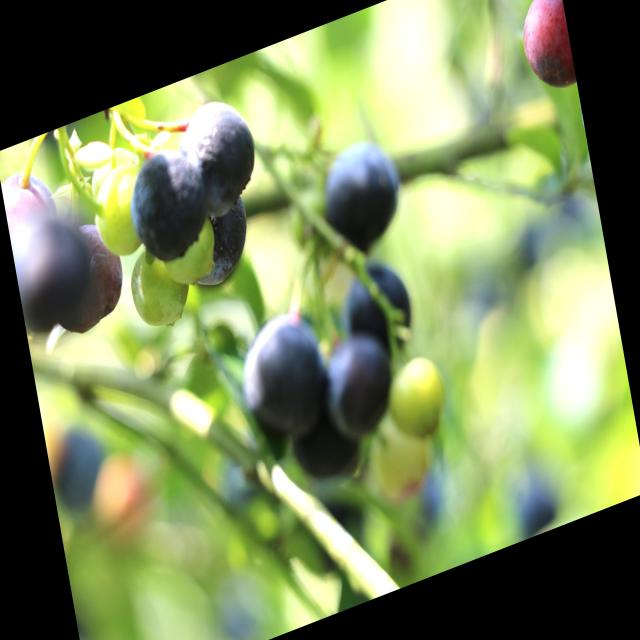blueberry: (9, 203, 101, 344), (235, 306, 326, 440), (123, 139, 212, 272), (318, 128, 412, 252), (175, 89, 260, 219), (54, 212, 133, 342), (338, 250, 416, 359), (319, 327, 394, 432), (0, 156, 70, 250)
blueberry-halfripe: (515, 0, 577, 105)
blueberry-unripe: (381, 344, 456, 454), (118, 232, 191, 343), (85, 161, 149, 265), (156, 220, 222, 292)
